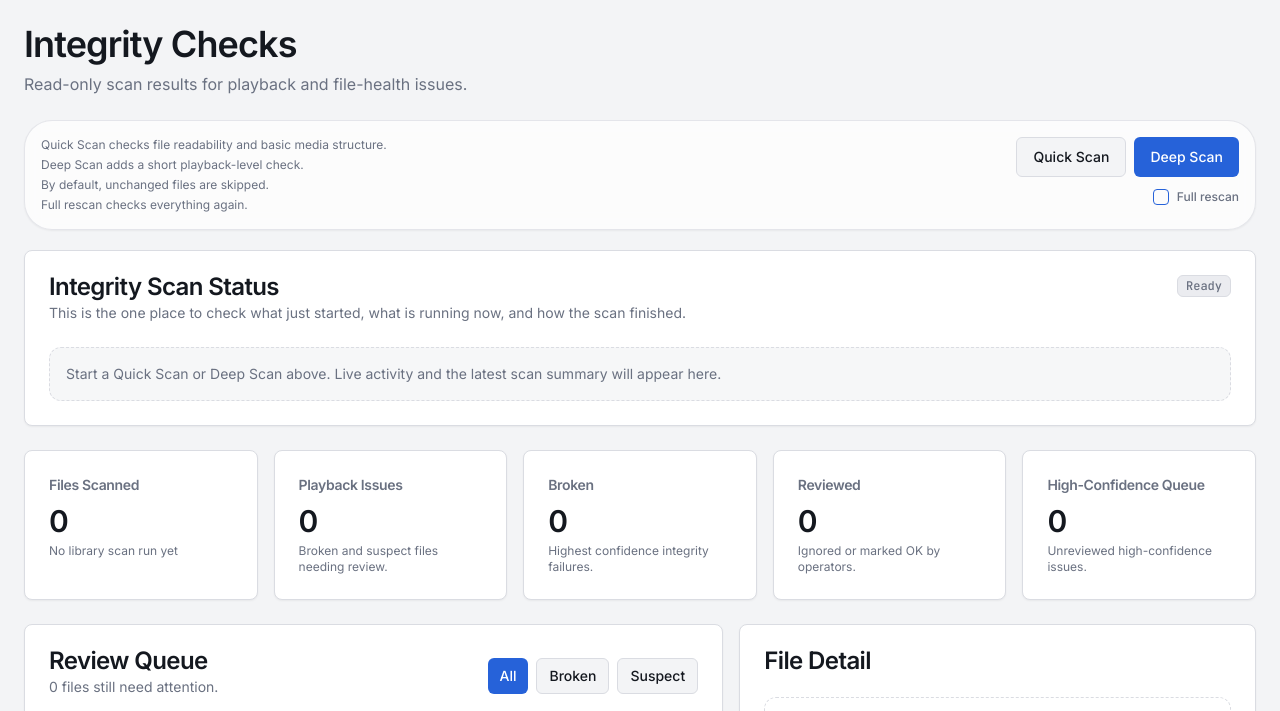
Test: IntegrityPage › shows a visible message when no eligible files were scanned
Click the button "Quick Scan": click(1071, 157) [1016,137,1126,177]
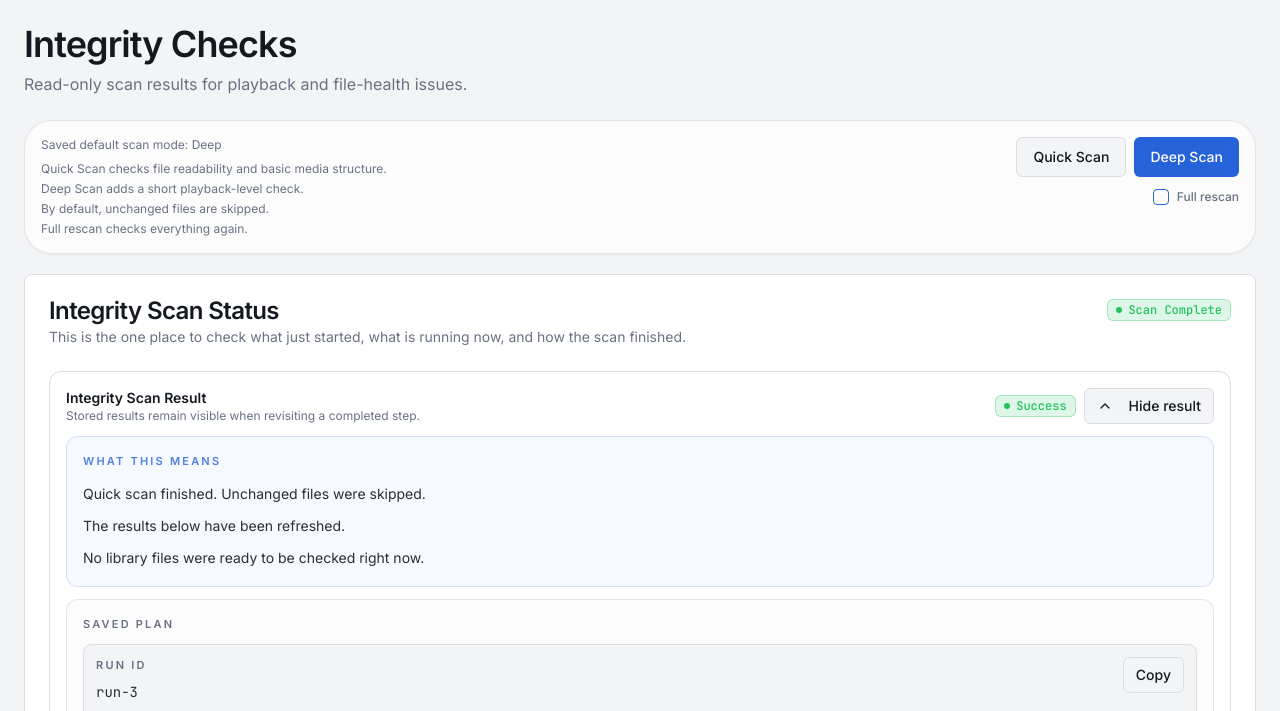
Check: the text "No library files were ready to be checked right now." is shown, box [83,548,424,566]
